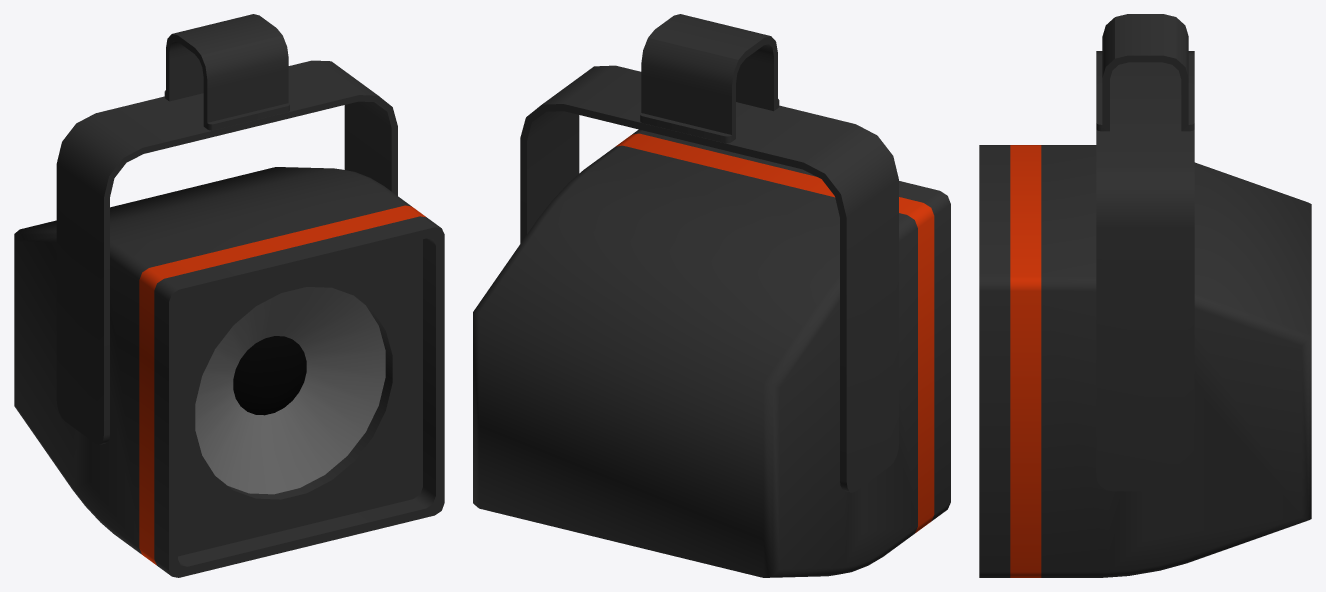
File: speaker.fbx
3 views of the same model, side by side, from view 1: azimuth 30°, elevation 25°; view 2: azimuth 150°, elevation 25°; view 3: azimuth 270°, elevation 25° (orthographic). The views are drawn at different scales.
Visible parts, largest first — view 1: SM_speaker, SM_speaker_frame; view 2: SM_speaker, SM_speaker_frame; view 3: SM_speaker, SM_speaker_frame.
Boxes of the visible parts, <box> form: SM_speaker: <box>14,167,444,577</box>; SM_speaker_frame: <box>56,14,397,444</box>; SM_speaker: <box>473,129,950,577</box>; SM_speaker_frame: <box>520,14,898,492</box>; SM_speaker: <box>979,145,1311,577</box>; SM_speaker_frame: <box>1096,14,1194,491</box>.
Bounding box in the file's own units: 27.74 × 41.18 × 25.99.
